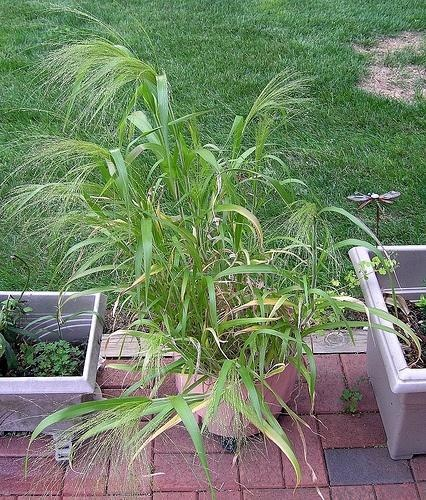pottedplant: (3, 3, 423, 499), (1, 290, 110, 462), (346, 245, 426, 461)
